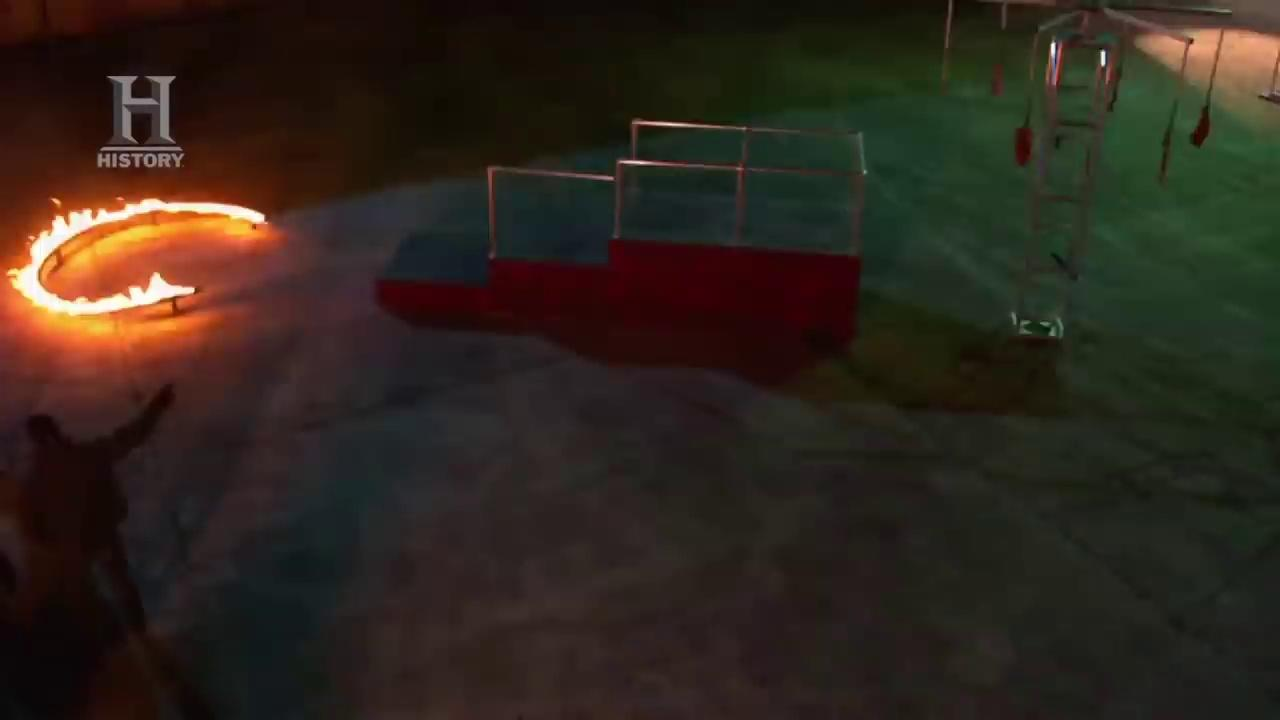Fire: (12, 189, 264, 316)
